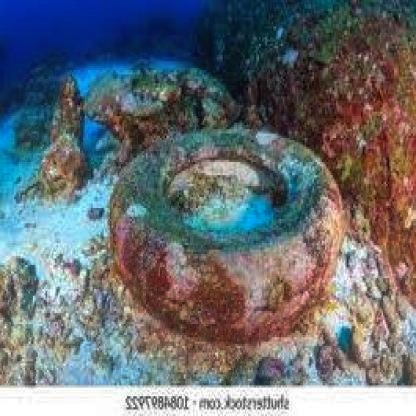tire: (108, 127, 367, 331)
